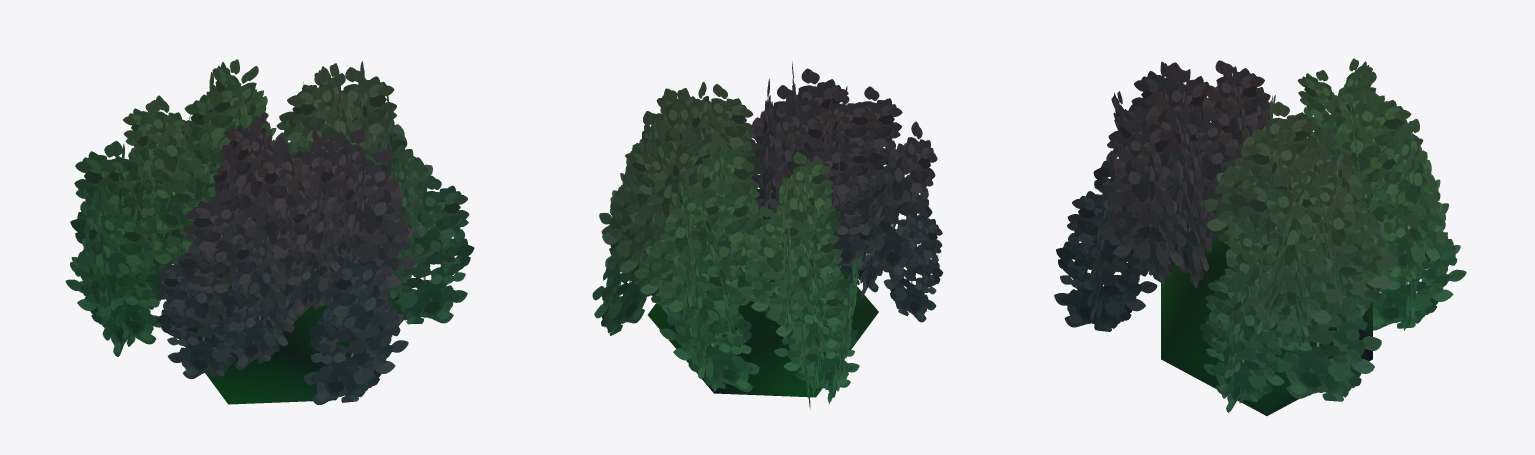
Rendered from nat_bush_dark_a_LOD1.glb.
3 renders of one model, left to right at view 1: azimuth 30°, elevation 25°; view 2: azimuth 150°, elevation 25°; view 3: azimuth 270°, elevation 25°, orthographic. The views are drawn at different scales.
Visible parts, largest first — view 1: geometry_0; view 2: geometry_0; view 3: geometry_0.
Boxes of the visible parts, bbox=[...] form: geometry_0: bbox=[65, 59, 474, 404]; geometry_0: bbox=[592, 61, 943, 408]; geometry_0: bbox=[1054, 58, 1466, 415].
Size of the model in its own units: 1.17 by 0.8478 by 1.22.
Materials: 1 (1 with a texture image).
